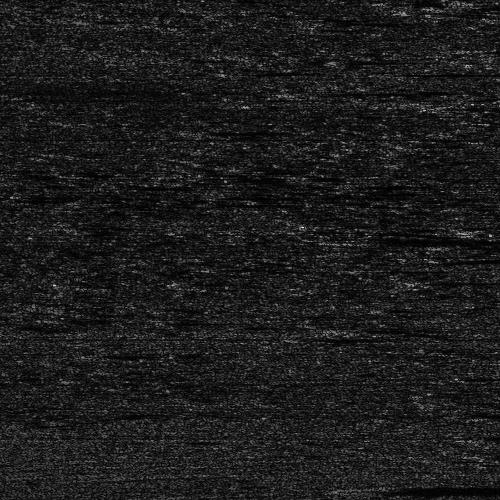rock: (241, 88, 356, 97), (169, 126, 222, 135), (363, 482, 374, 491)
shadow: (369, 482, 500, 491), (299, 88, 407, 97), (196, 126, 300, 135), (364, 236, 500, 239)
